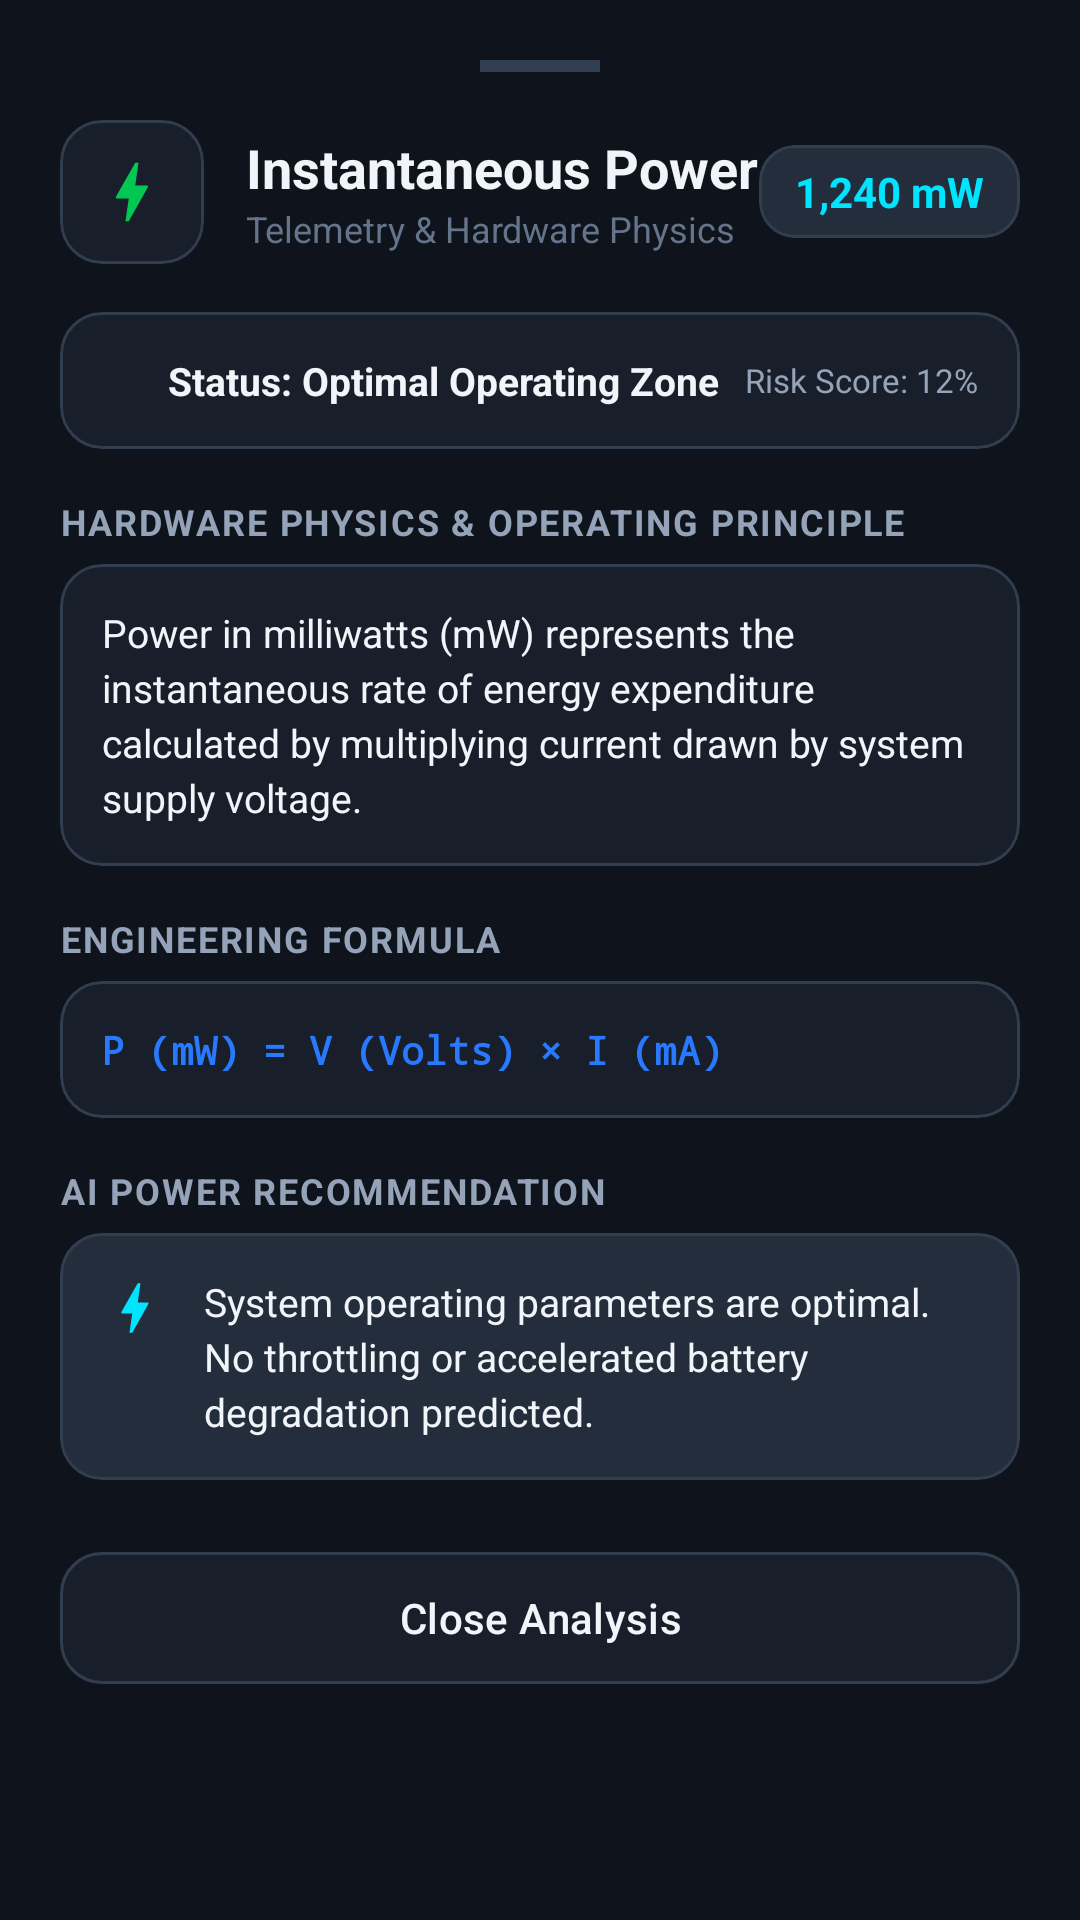

Icon bounding boxes for this 1080 × 1920 phone screenshot, format (x1=x1, y1=y1, x2=x2, y2=y2):
bolt: (x1=115, y1=162, x2=148, y2=222), (x1=121, y1=1283, x2=149, y2=1333)
